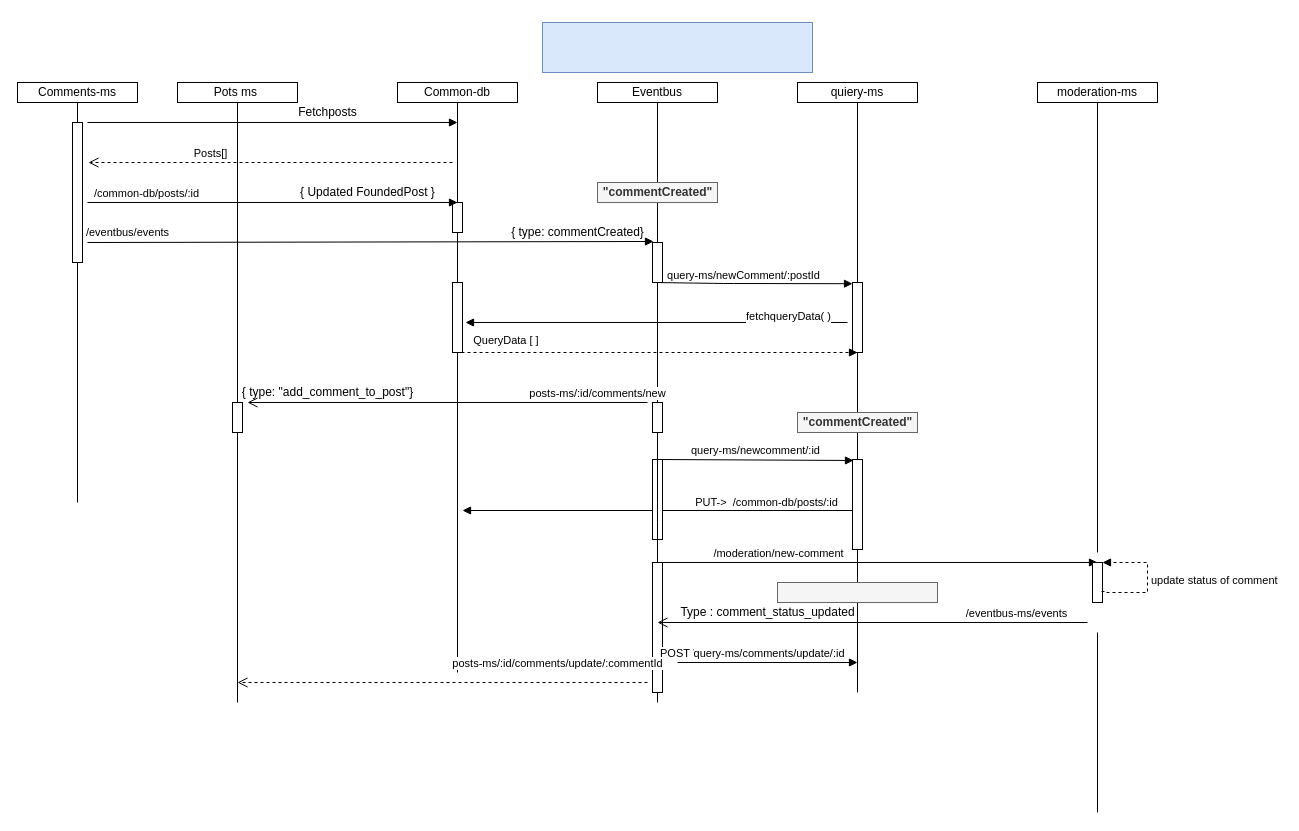
Some shapes in this 1299 by 831 pixel diagram are drawn without their labels. The centre of each missing label's shape, as x and y in pixels:
"Add/update Comment" goes at point (677, 47).
"comment_status_updated" goes at point (857, 592).
